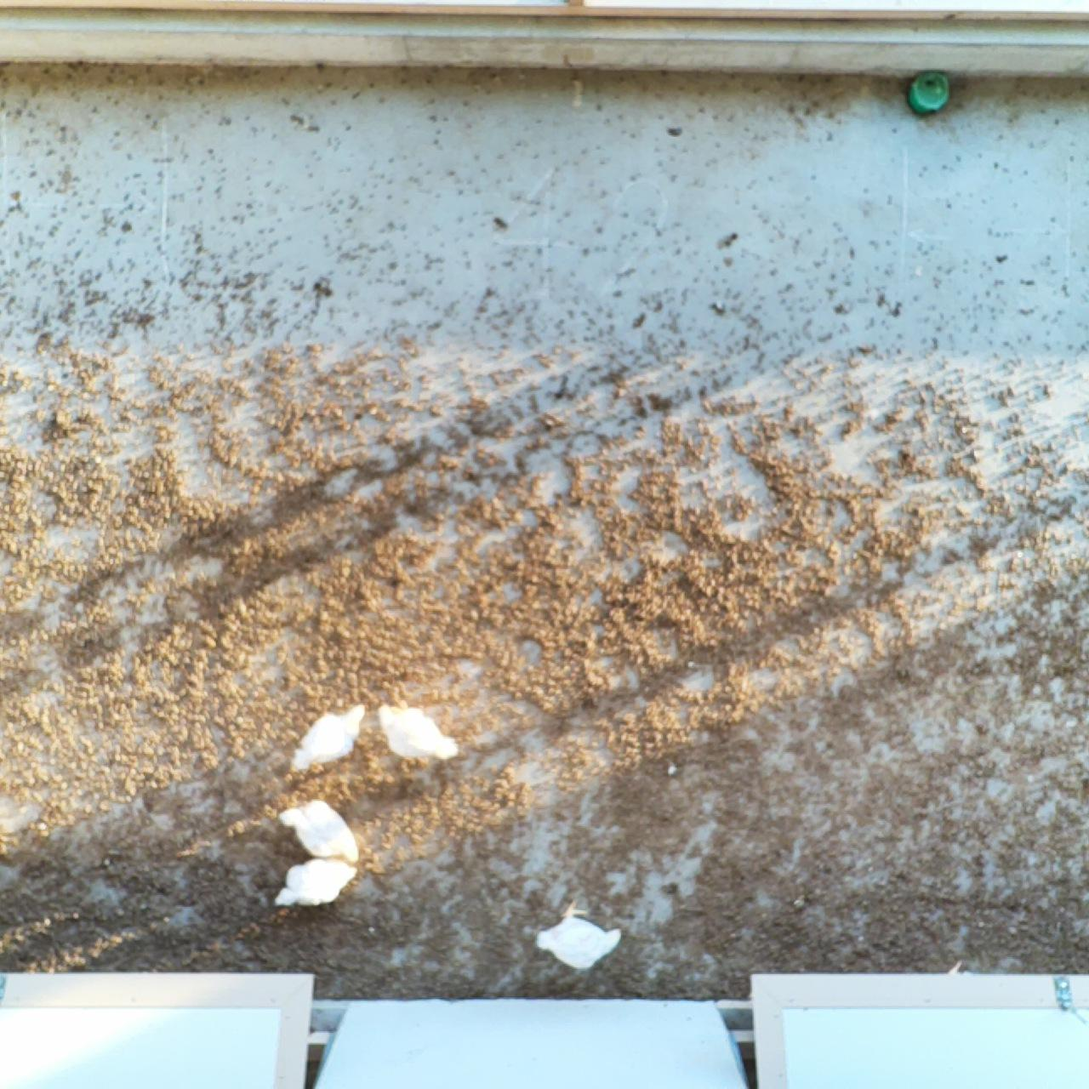chicken: (530, 895, 629, 977), (287, 700, 371, 778), (374, 698, 463, 768), (278, 797, 362, 869), (271, 856, 358, 911)
